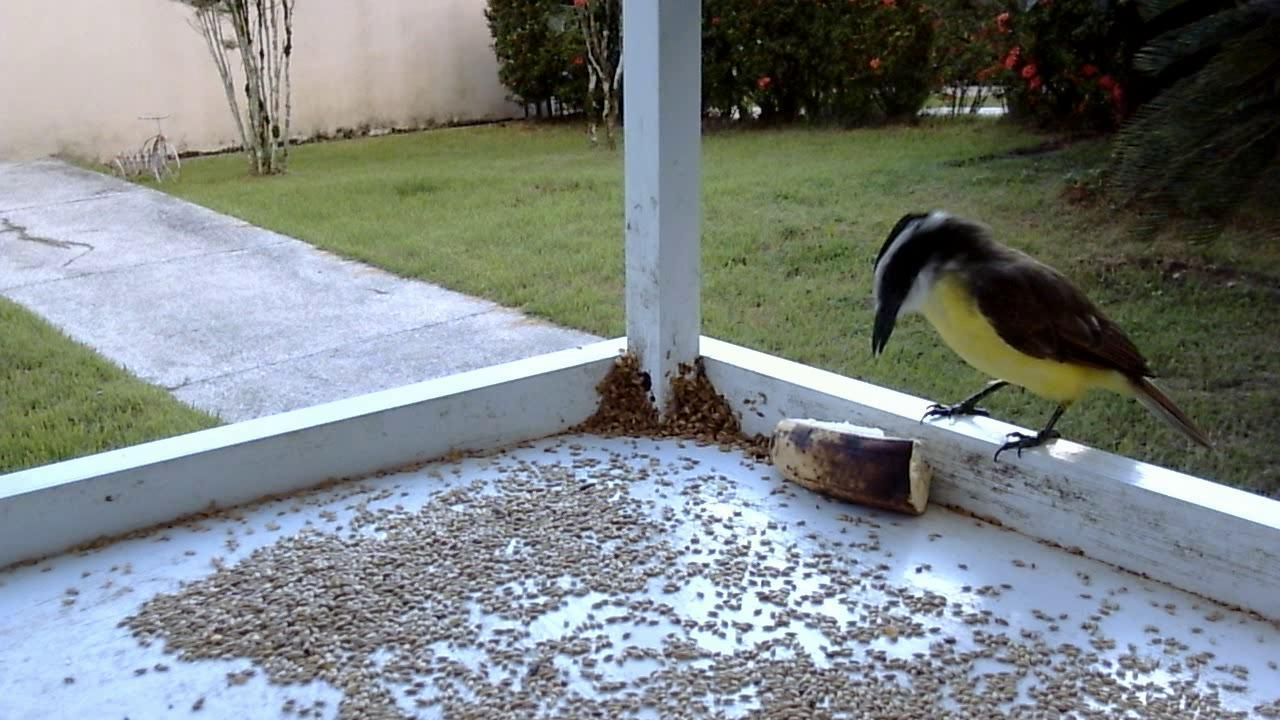bem_te_vi: (863, 200, 1231, 483)
